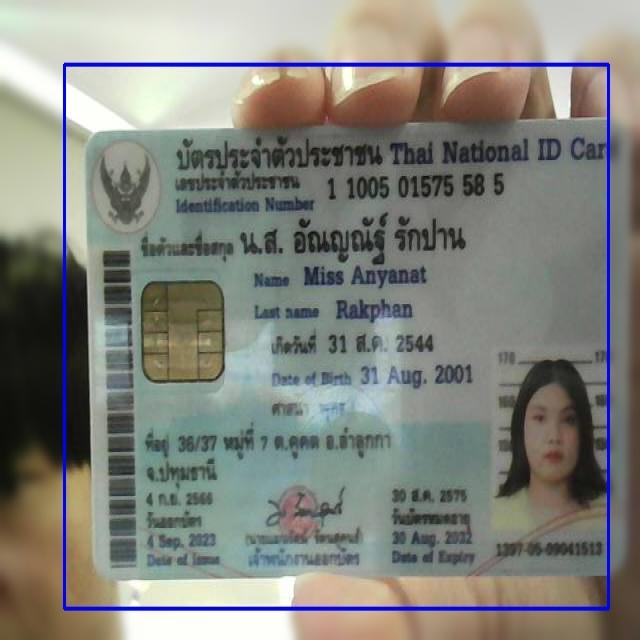Address_th: (142, 415, 400, 492)
Date_of_Birth: (357, 359, 475, 393)
Date_of_Expiry: (386, 526, 477, 555)
Date_of_Issue: (146, 527, 222, 554)
First_Name: (301, 260, 429, 294)
ID_Number: (322, 170, 510, 205)
Image: (493, 343, 619, 540)
Last_Name: (335, 296, 415, 326)
Thai_Name: (235, 208, 479, 265)
